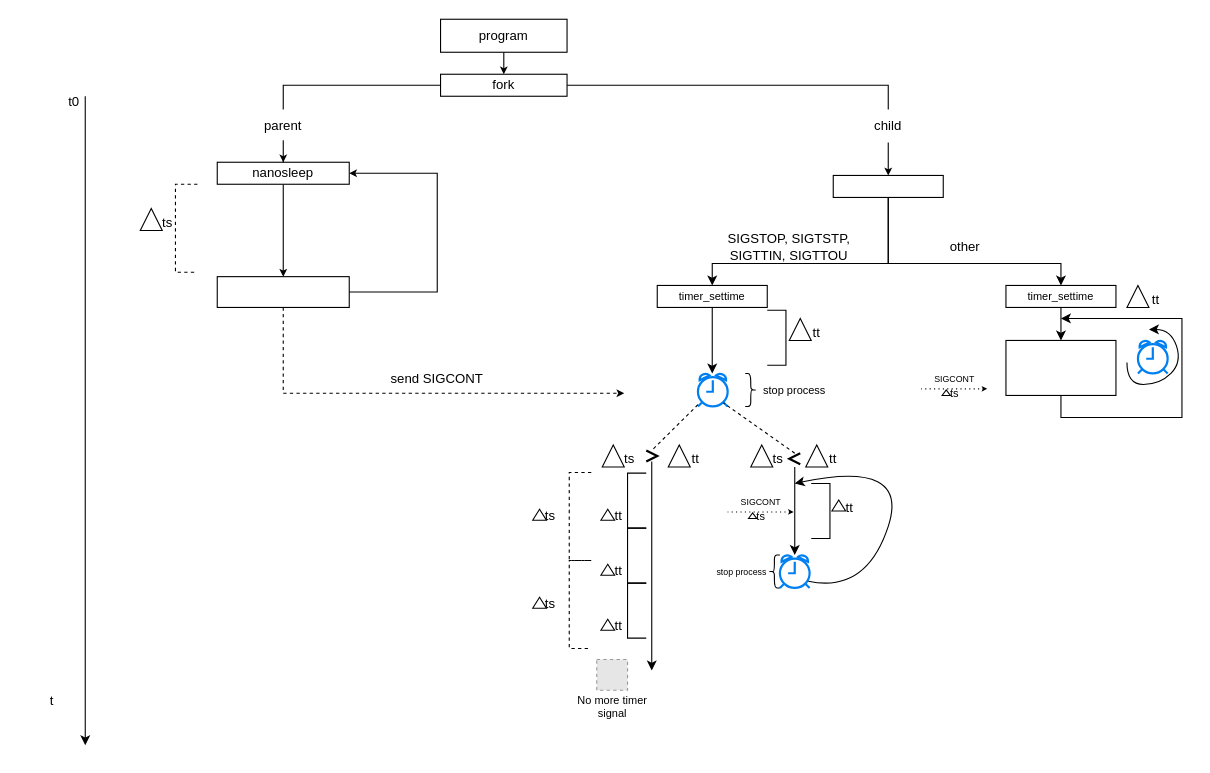
Some shapes in this 1210 by 773 pixel diagram are drawn without their labels. Grey dashed boxes stand in for pictures. The centre of each missing label's shape, as x and y in pixels:
"infinite loop{ nanosleep }" goes at pixel 1060 367.
"kill SIGCONT" goes at pixel 282 291.
"time_create" goes at pixel 887 185.
